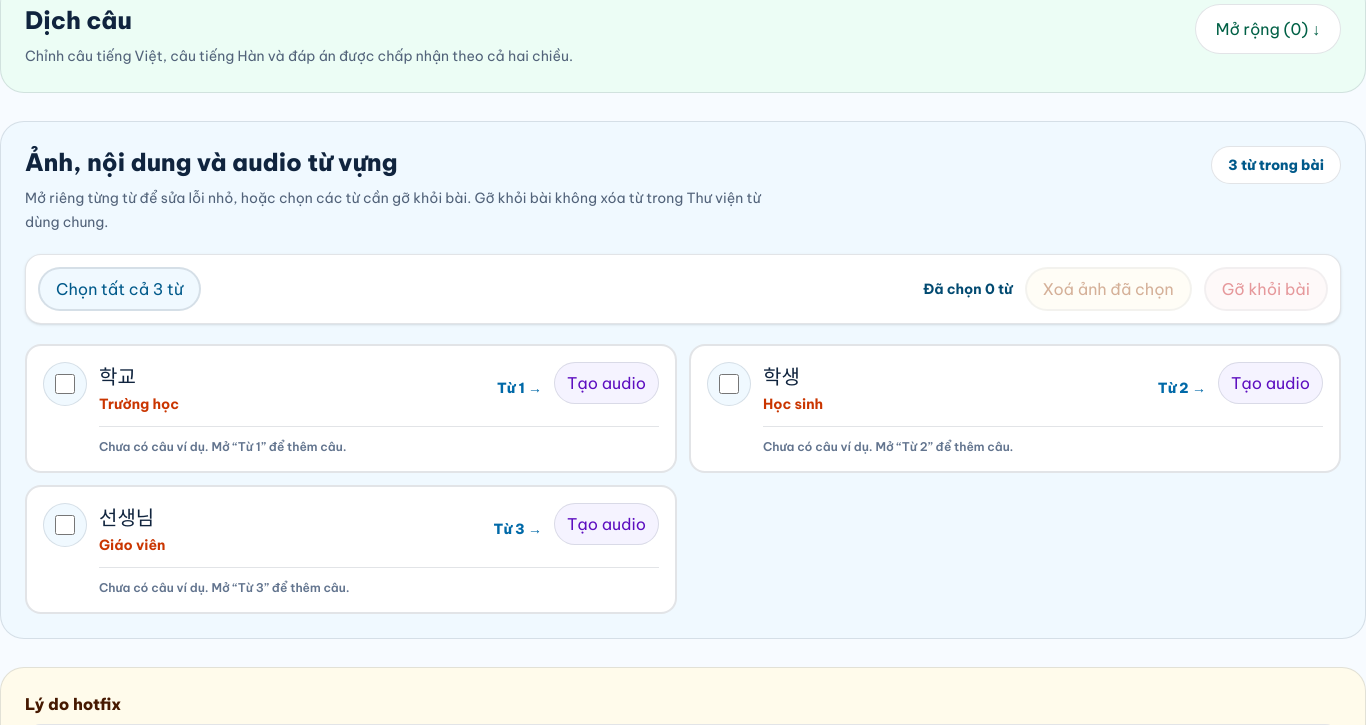
PublishedLessonHotfixForm vocabulary removal › cho chọn từng từ, chọn tất cả, xác nhận gỡ và hoàn tác trước khi lưu
The width and height of the screenshot is (1366, 725).
(page scrolled)
Click the checkbox named "Chọn từ 학교" next to "학교" at [65, 384], box [55,374,75,394]
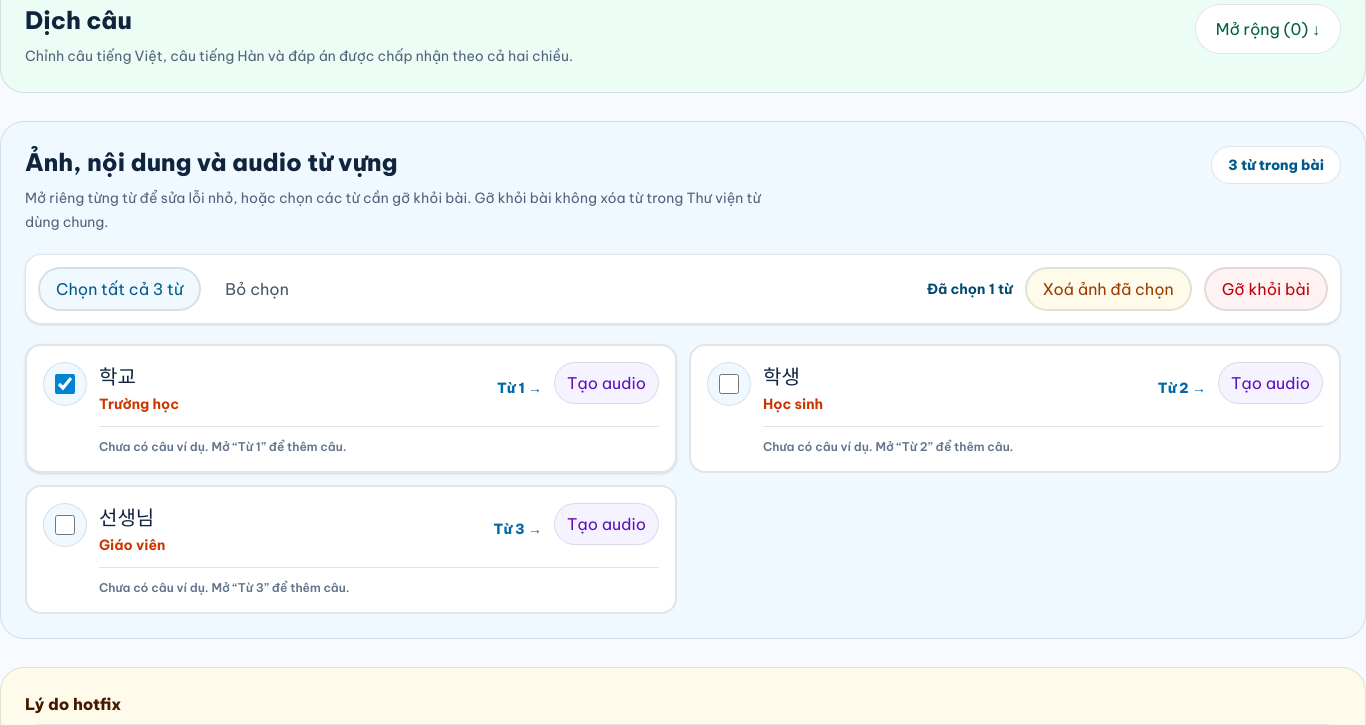
Expected: the text "Đã chọn 1 từ" is shown, [927,279,1012,299]
Click the button "Chọn tất cả 3 từ" at [120, 289], box [38,267,201,311]
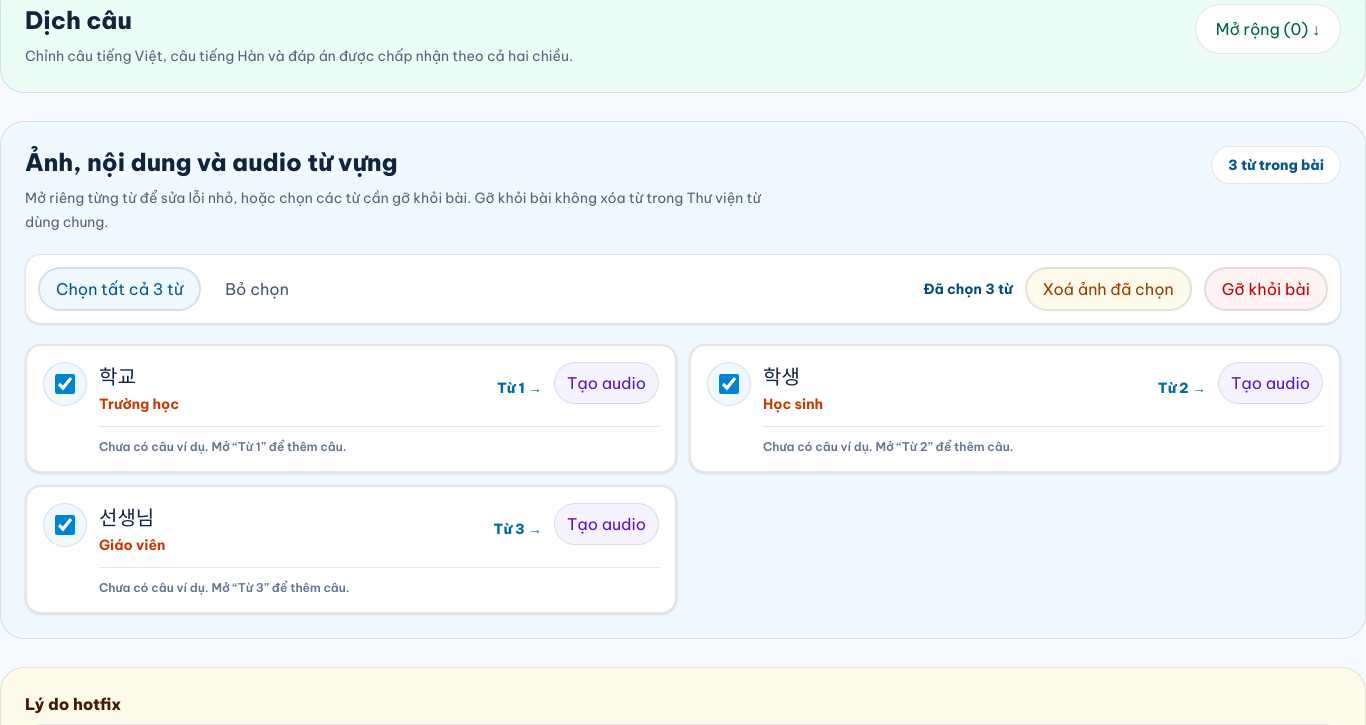
Expected: the text "Đã chọn 3 từ" is shown, [924,279,1012,299]
Click the button "Gỡ khỏi bài" at [1266, 289], box [1204,267,1328,311]
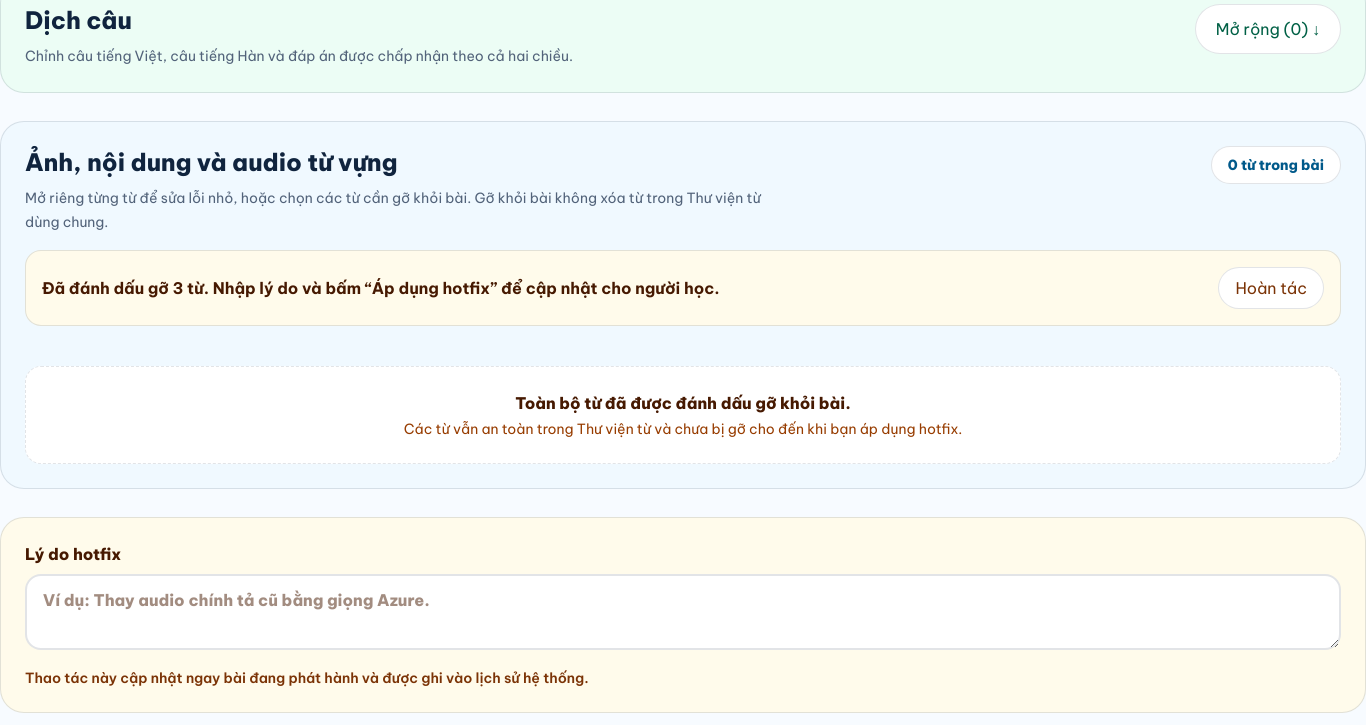
Expected: the text "Đã đánh dấu gỡ 3 từ" is shown, [42,276,720,300]
Click the button "Hoàn tác" at [1271, 288], box [1218,267,1324,309]
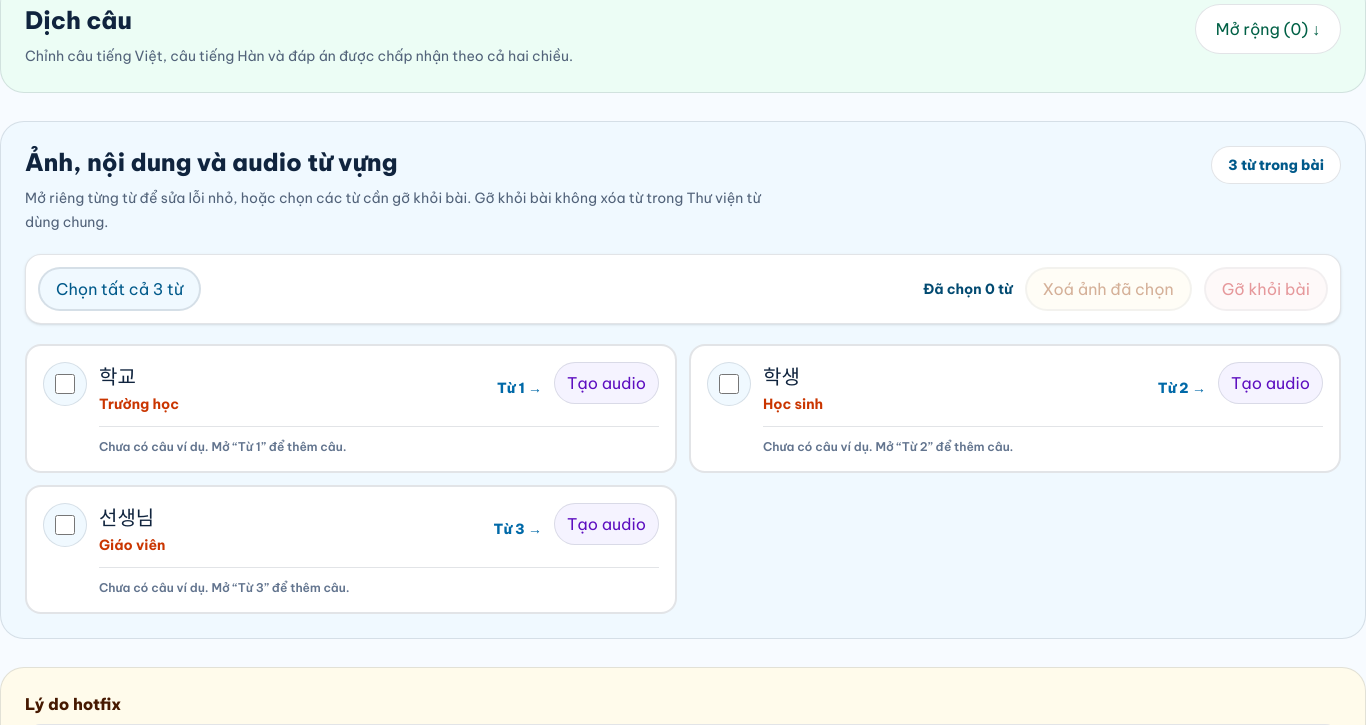
Expected: the number of checkboxes is 3, [55,374,75,394]; [719,374,739,394]; [55,515,75,535]
